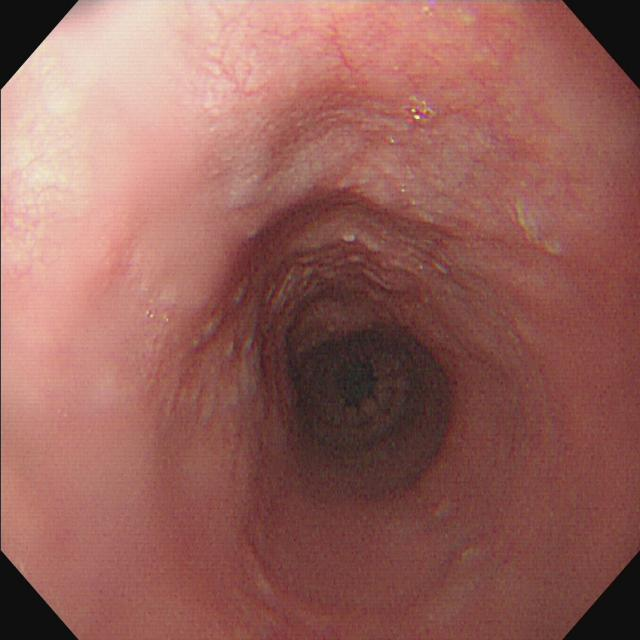E: (291, 318, 431, 468)
